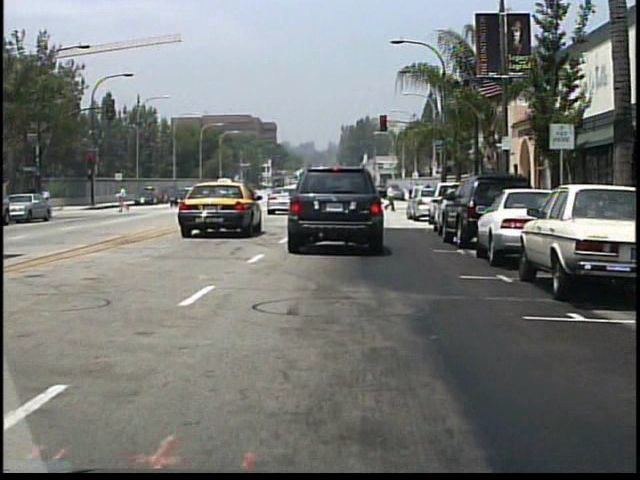person: (115, 187, 132, 216), (384, 184, 399, 213)
